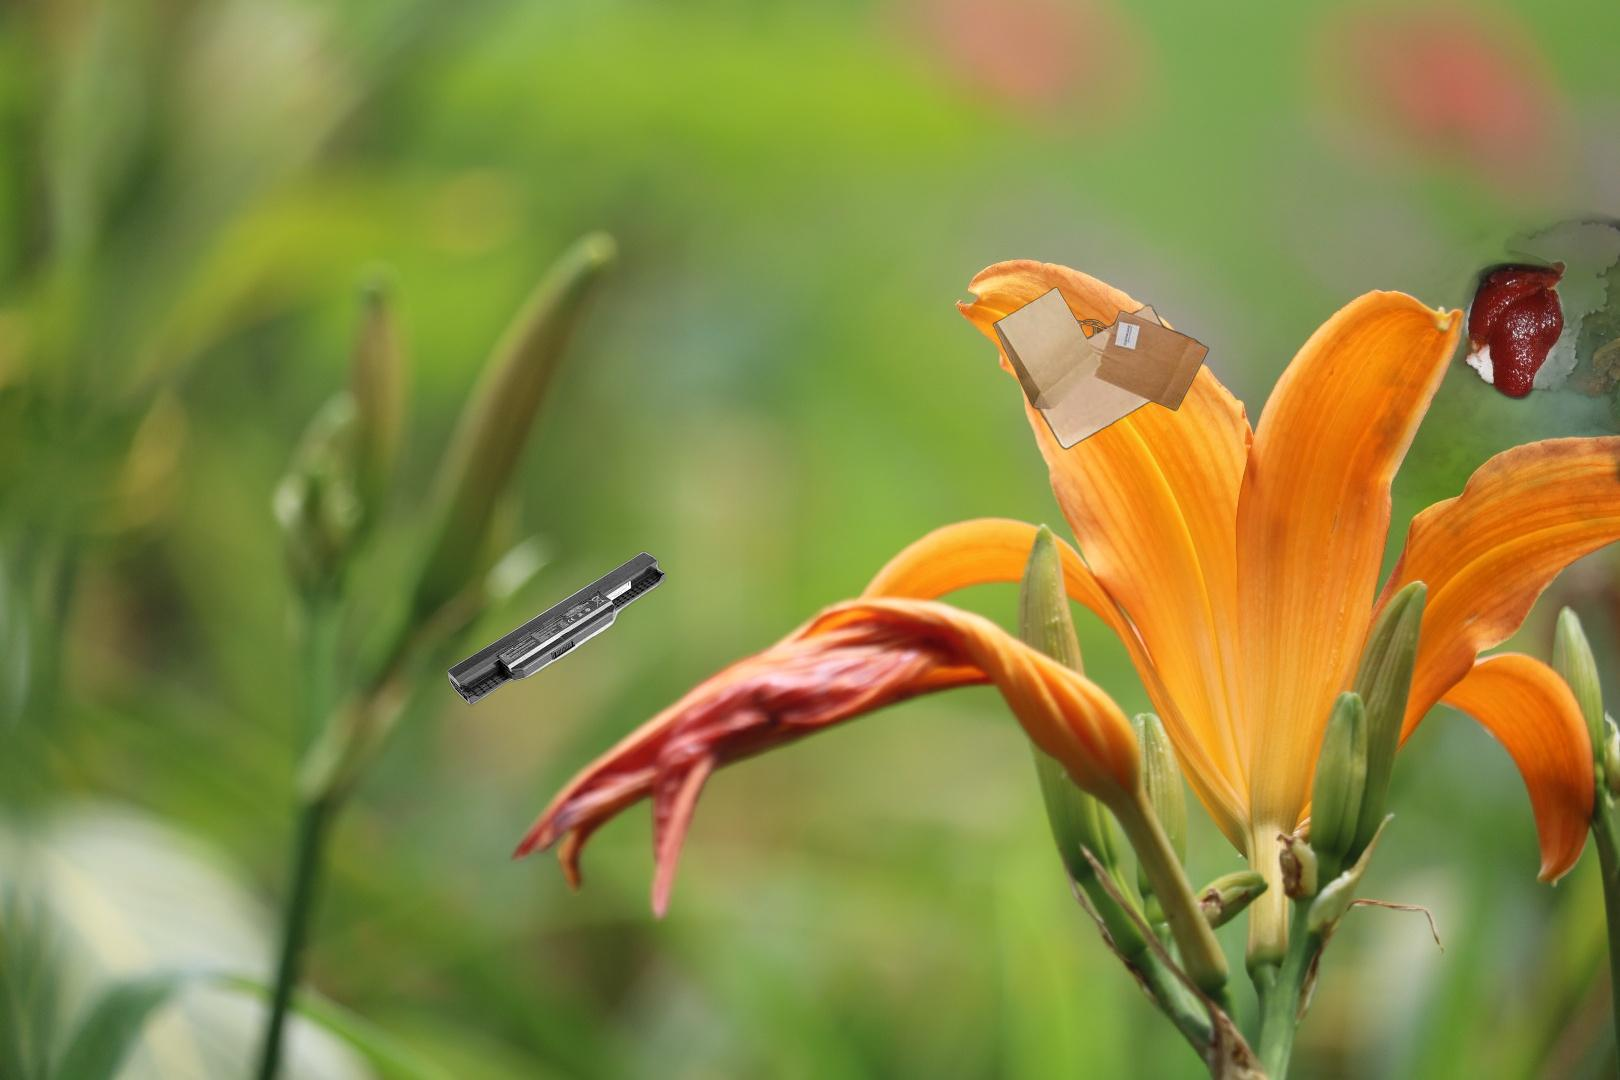battery: (447, 548, 668, 709)
biological: (1273, 193, 1620, 612)
paper-bag: (990, 284, 1213, 453)
plastic-bag: (1438, 673, 1620, 847)
